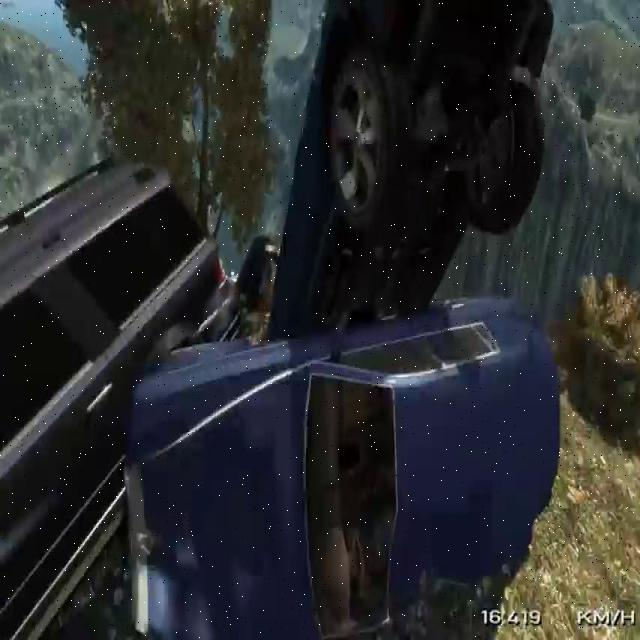severe: (0, 0, 570, 627)
